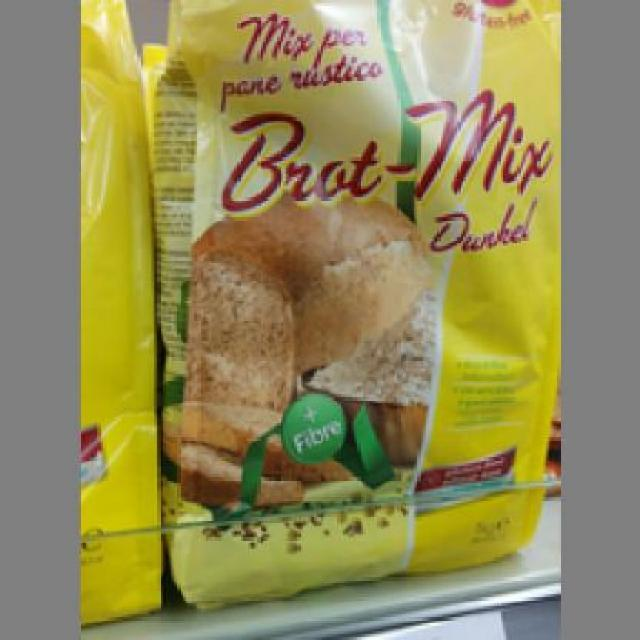Flour: (146, 0, 554, 606)
